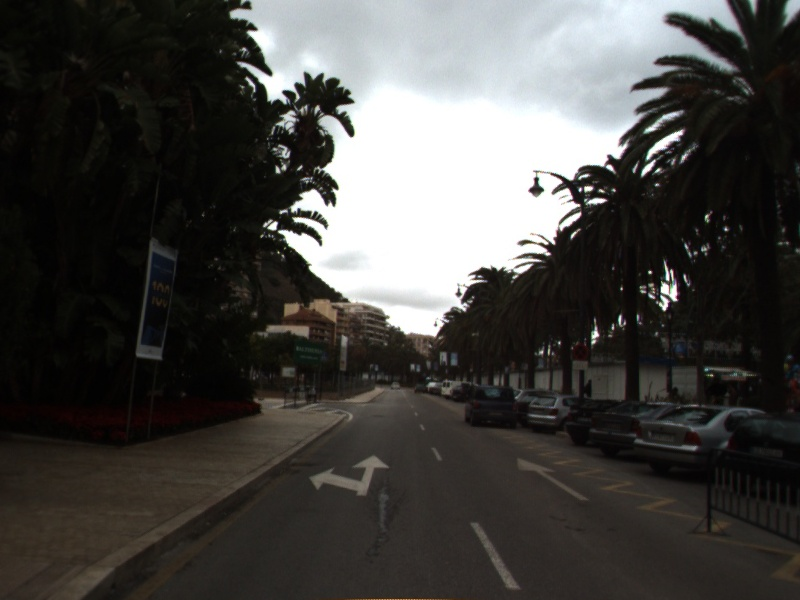STRAIGHT: (515, 455, 591, 502)
STRAIGHT_LEFT: (307, 452, 392, 498)
